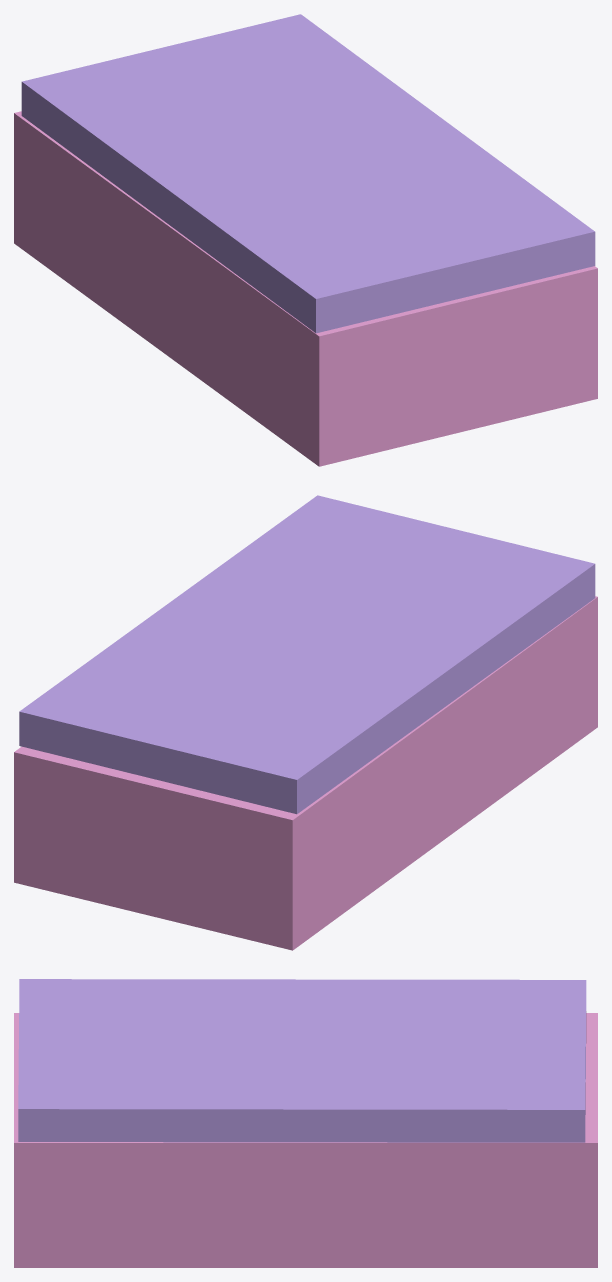
File: supply-crate-manticore.glb
The picture shows the model from 3 angles, top to bottom: view 1: azimuth 30°, elevation 25°; view 2: azimuth 150°, elevation 25°; view 3: azimuth 270°, elevation 25°; orthographic projection. The views are drawn at different scales.
Parts seen in each view (by area): view 1: lid_J, root_J; view 2: lid_J, root_J; view 3: lid_J, root_J.
Boxes of the visible parts, x1,y1,x2,y2 form: lid_J: (21, 14, 595, 333); root_J: (14, 111, 597, 466); lid_J: (19, 495, 595, 814); root_J: (14, 596, 597, 950); lid_J: (18, 979, 586, 1142); root_J: (14, 1013, 597, 1267).
Size of the model in its own units: 0.8552 by 0.483 by 1.61.
